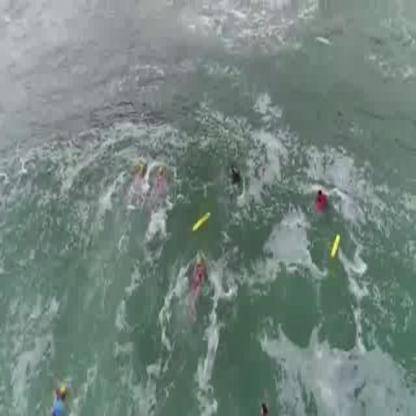Boat: (190, 208, 210, 233), (330, 228, 343, 258)
